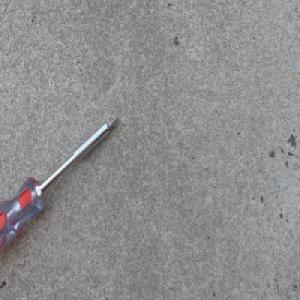Screwdriver: (0, 116, 119, 255)
